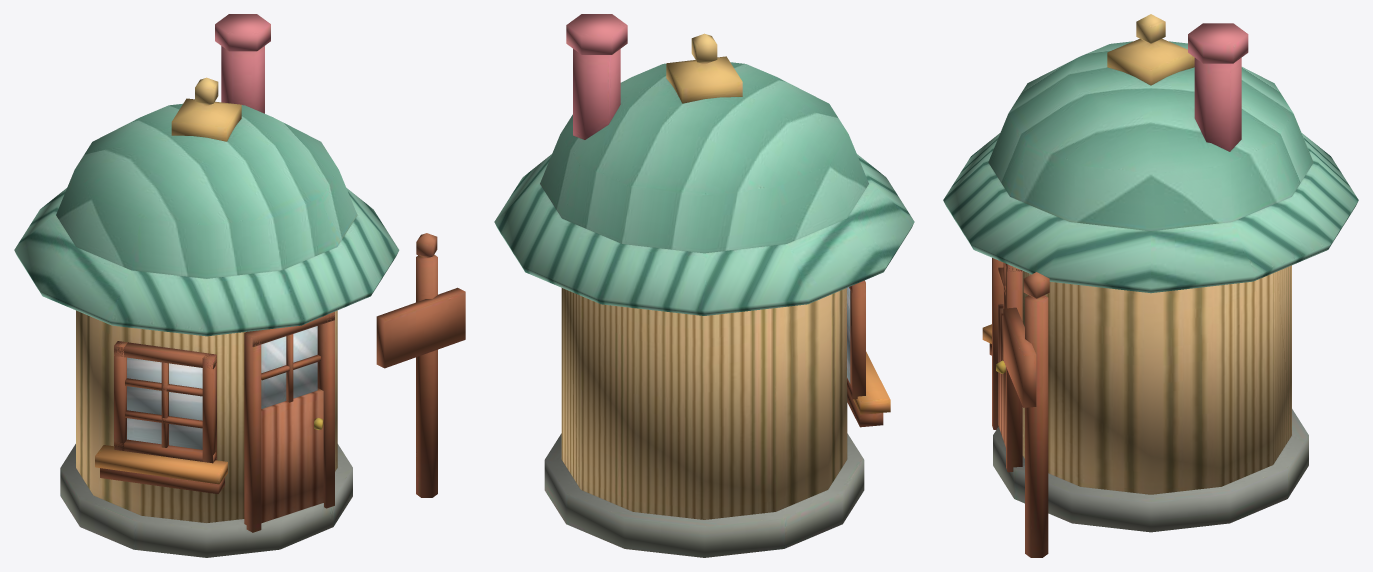
File: kiosk_1_low.glb
The picture shows the model from 3 angles, left to right: view 1: azimuth 30°, elevation 25°; view 2: azimuth 150°, elevation 25°; view 3: azimuth 270°, elevation 25°; orthographic projection. The views are drawn at different scales.
Visible parts, largest first — view 1: kiosk_1; view 2: kiosk_1; view 3: kiosk_1.
Part boxes in pixels (x1=…): kiosk_1: x1=14, y1=14, x2=465, y2=557; kiosk_1: x1=494, y1=14, x2=914, y2=557; kiosk_1: x1=943, y1=14, x2=1358, y2=557.
Bounding box in the file's own units: 1.36 × 1.53 × 1.24.
Materials: 1 (1 with a texture image).
